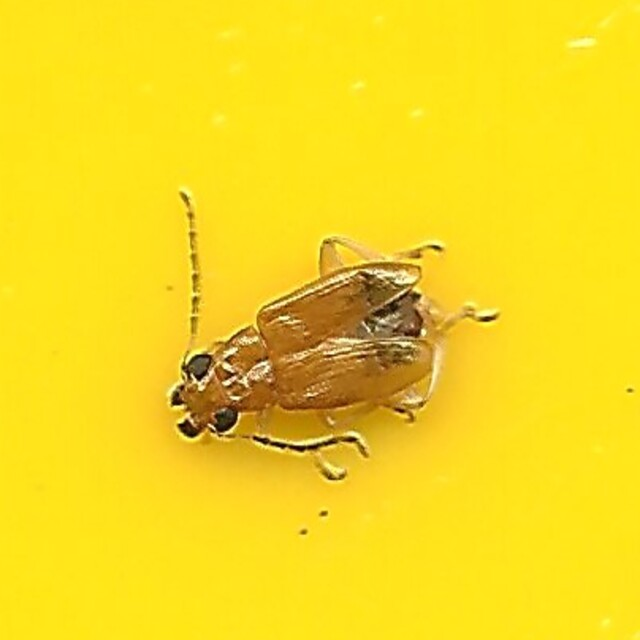Coleoptera: (158, 182, 482, 458)
